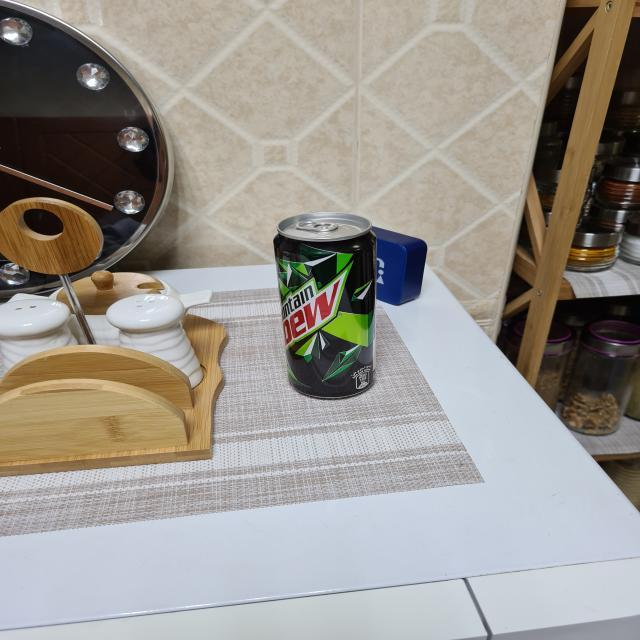can: (276, 213, 379, 399)
